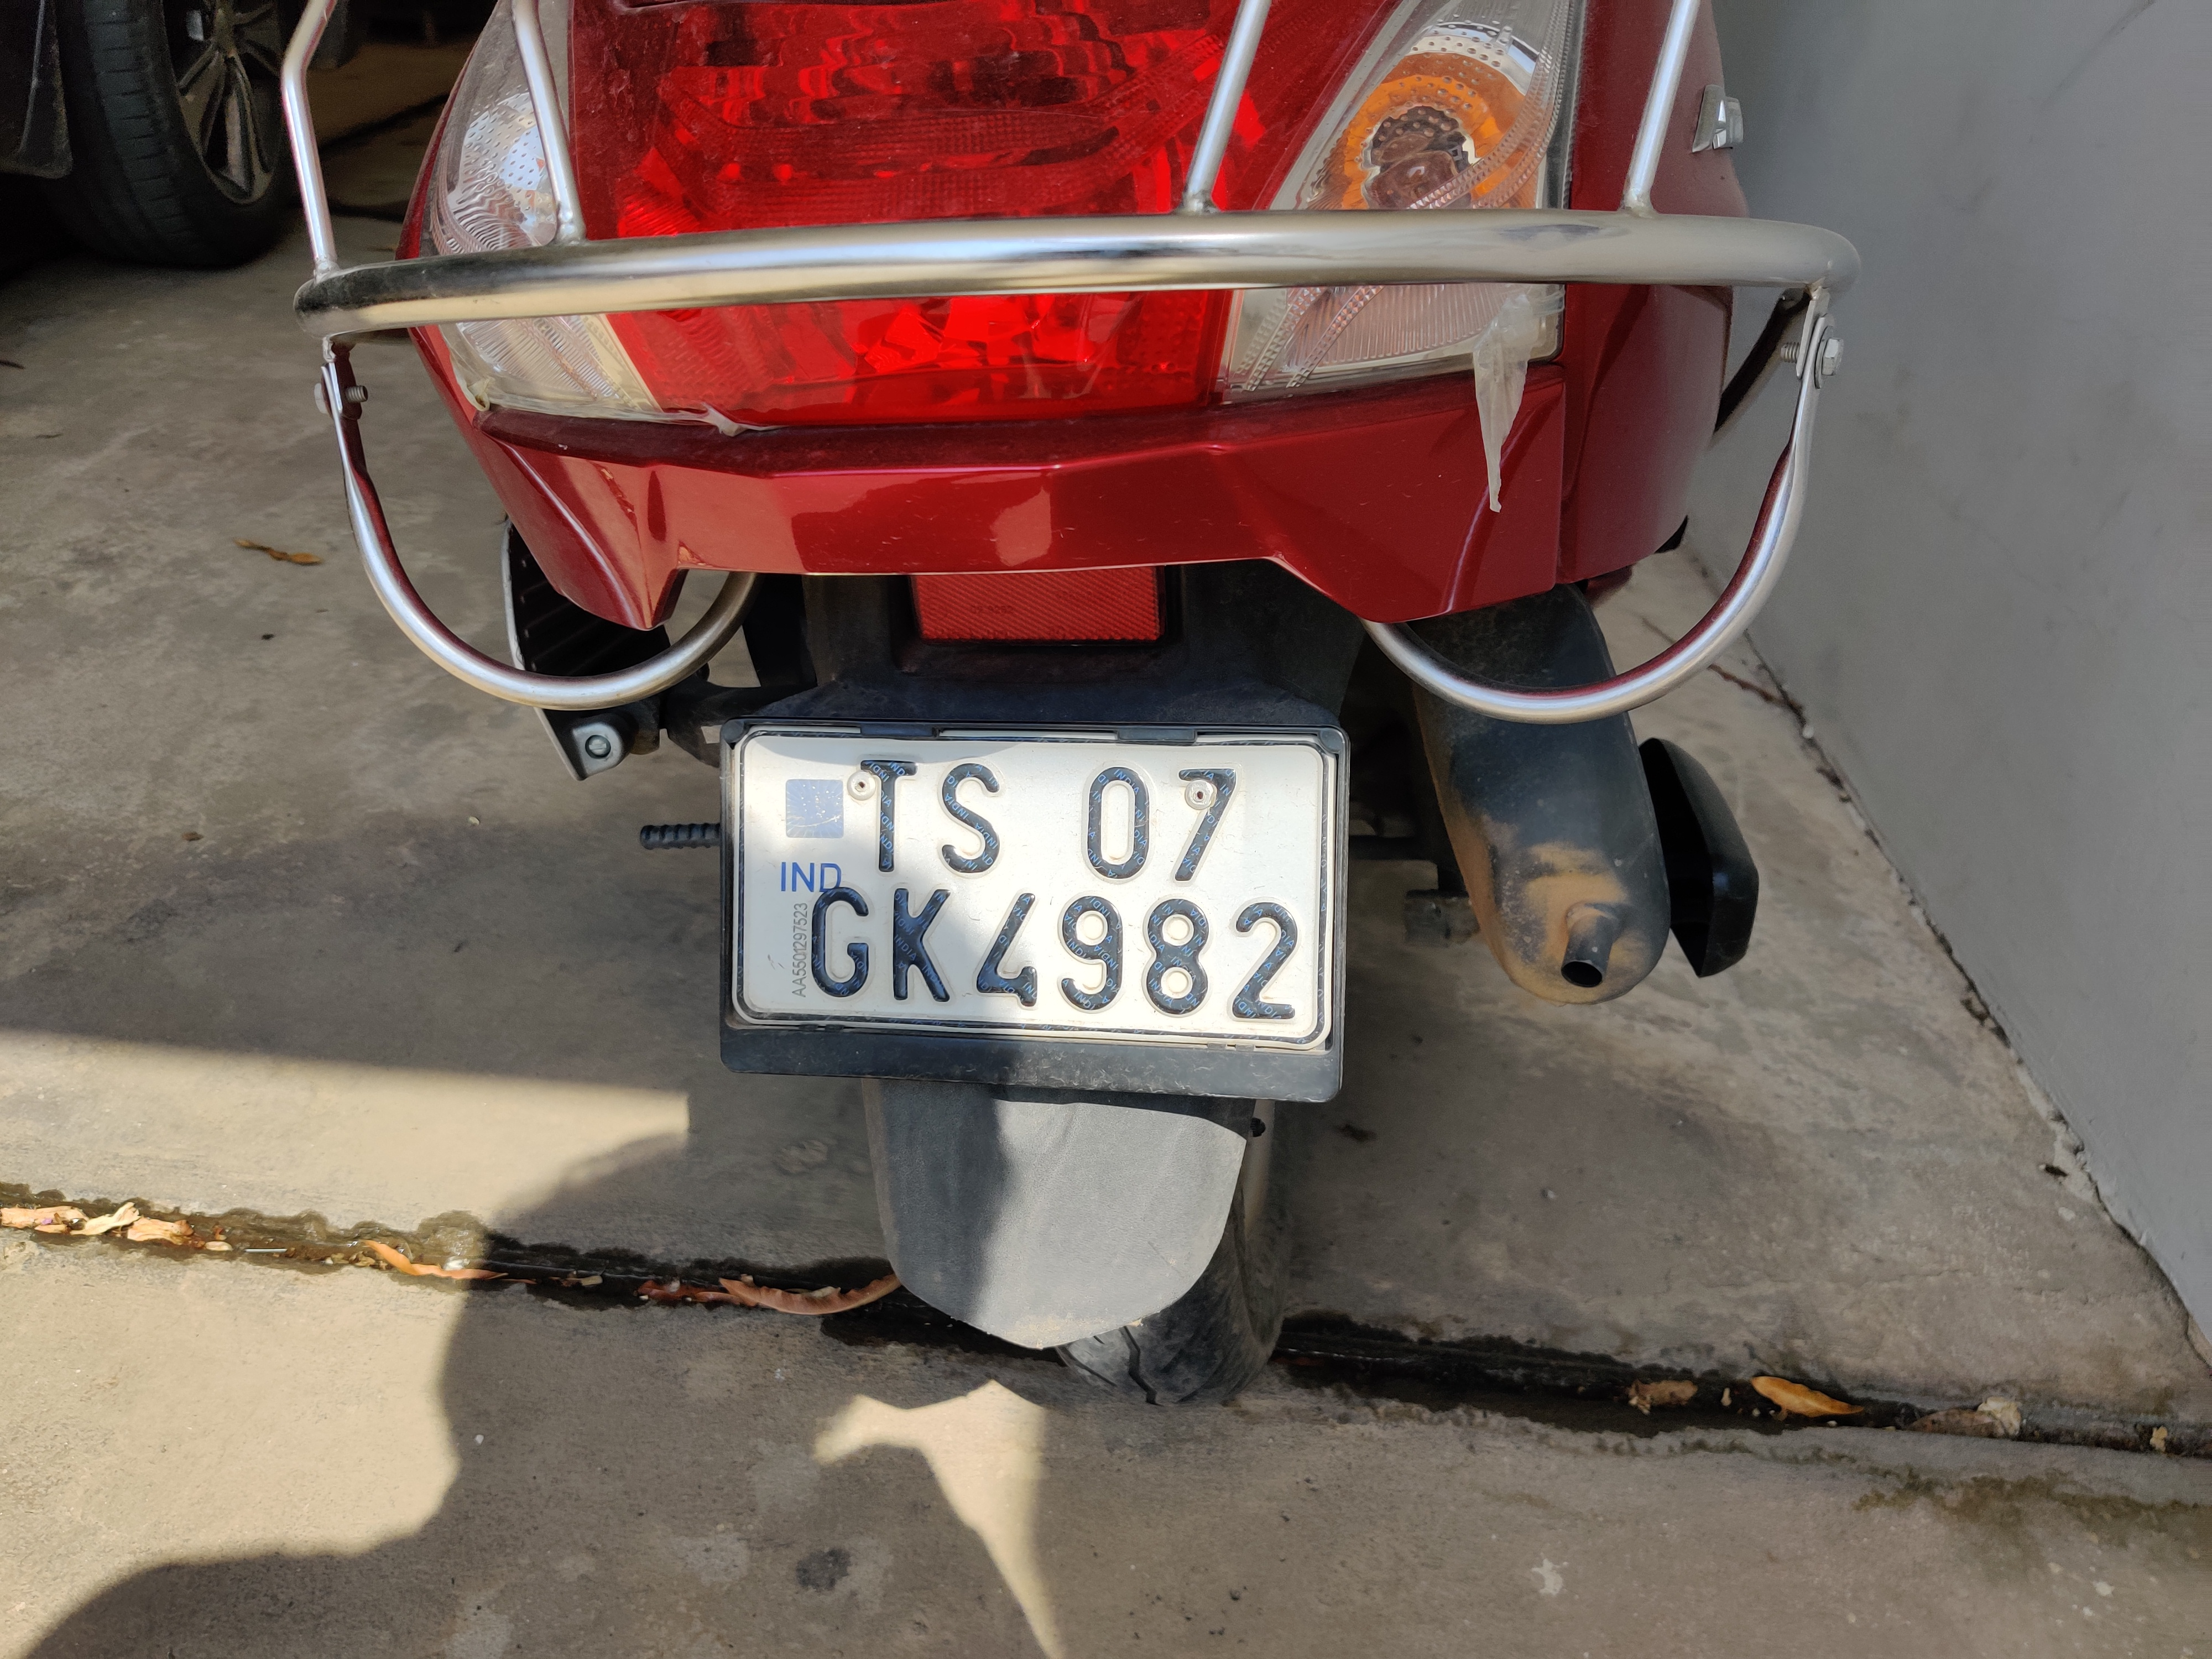plate: (661, 666, 1402, 1164)
